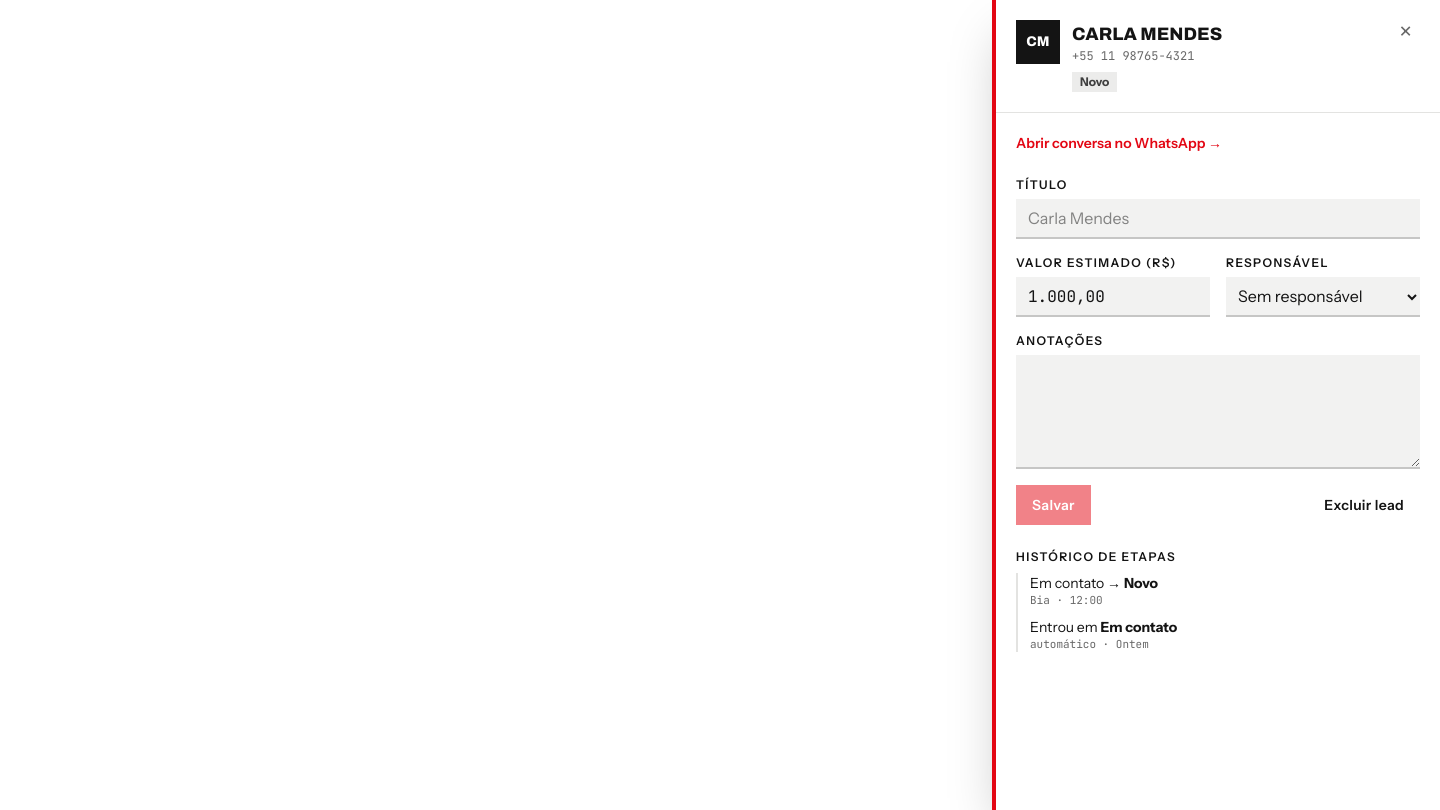
Test: LeadPanel › blocks saving an invalid value
Replace the text in the field labelled "Valor estimado (R$)" with "abc" at (1113,297), box [1016,277,1210,317]
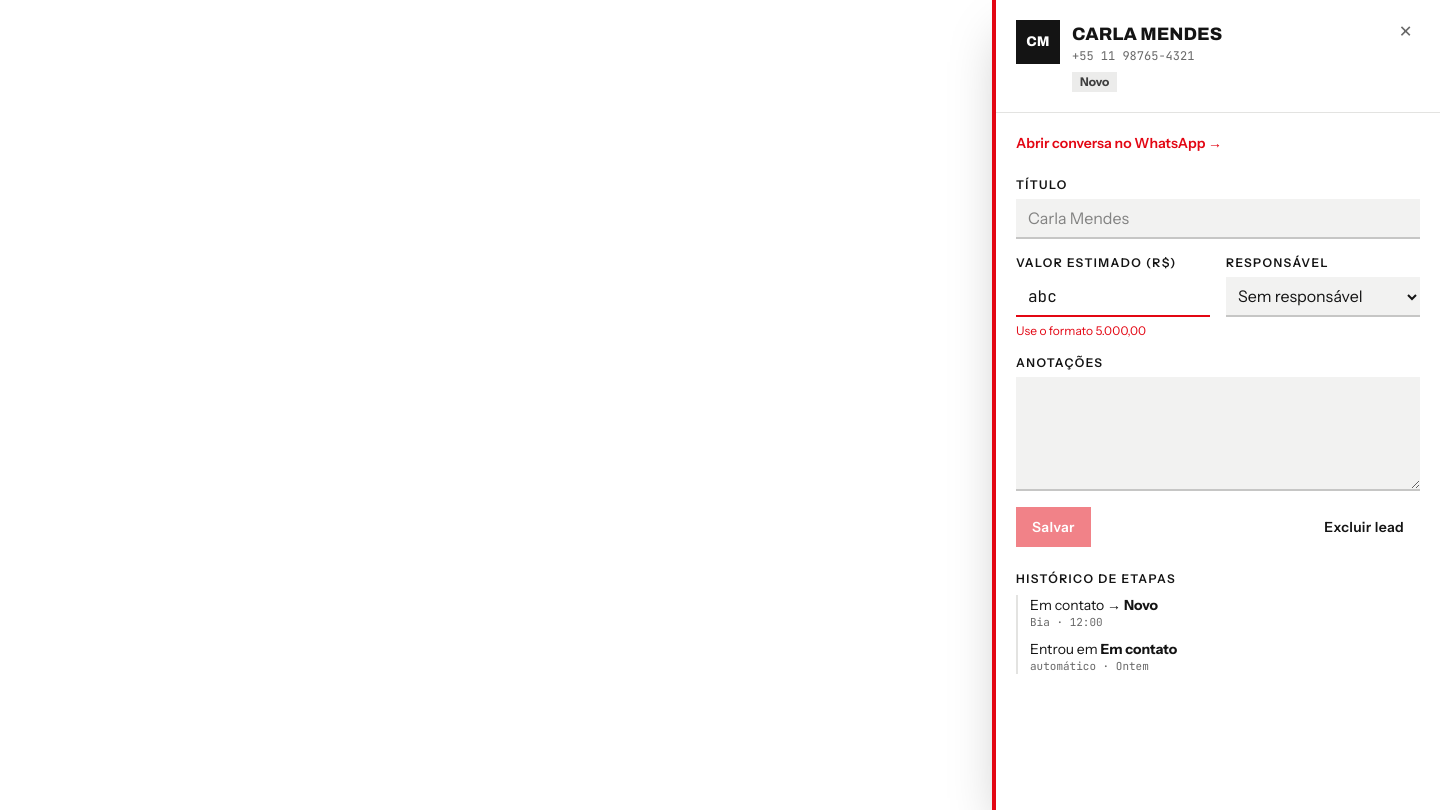
Check: the text "Use o formato 5.000,00" is shown, box [1016,323,1146,338]
Check: the button "Salvar" is disabled, box [1016,507,1091,547]
